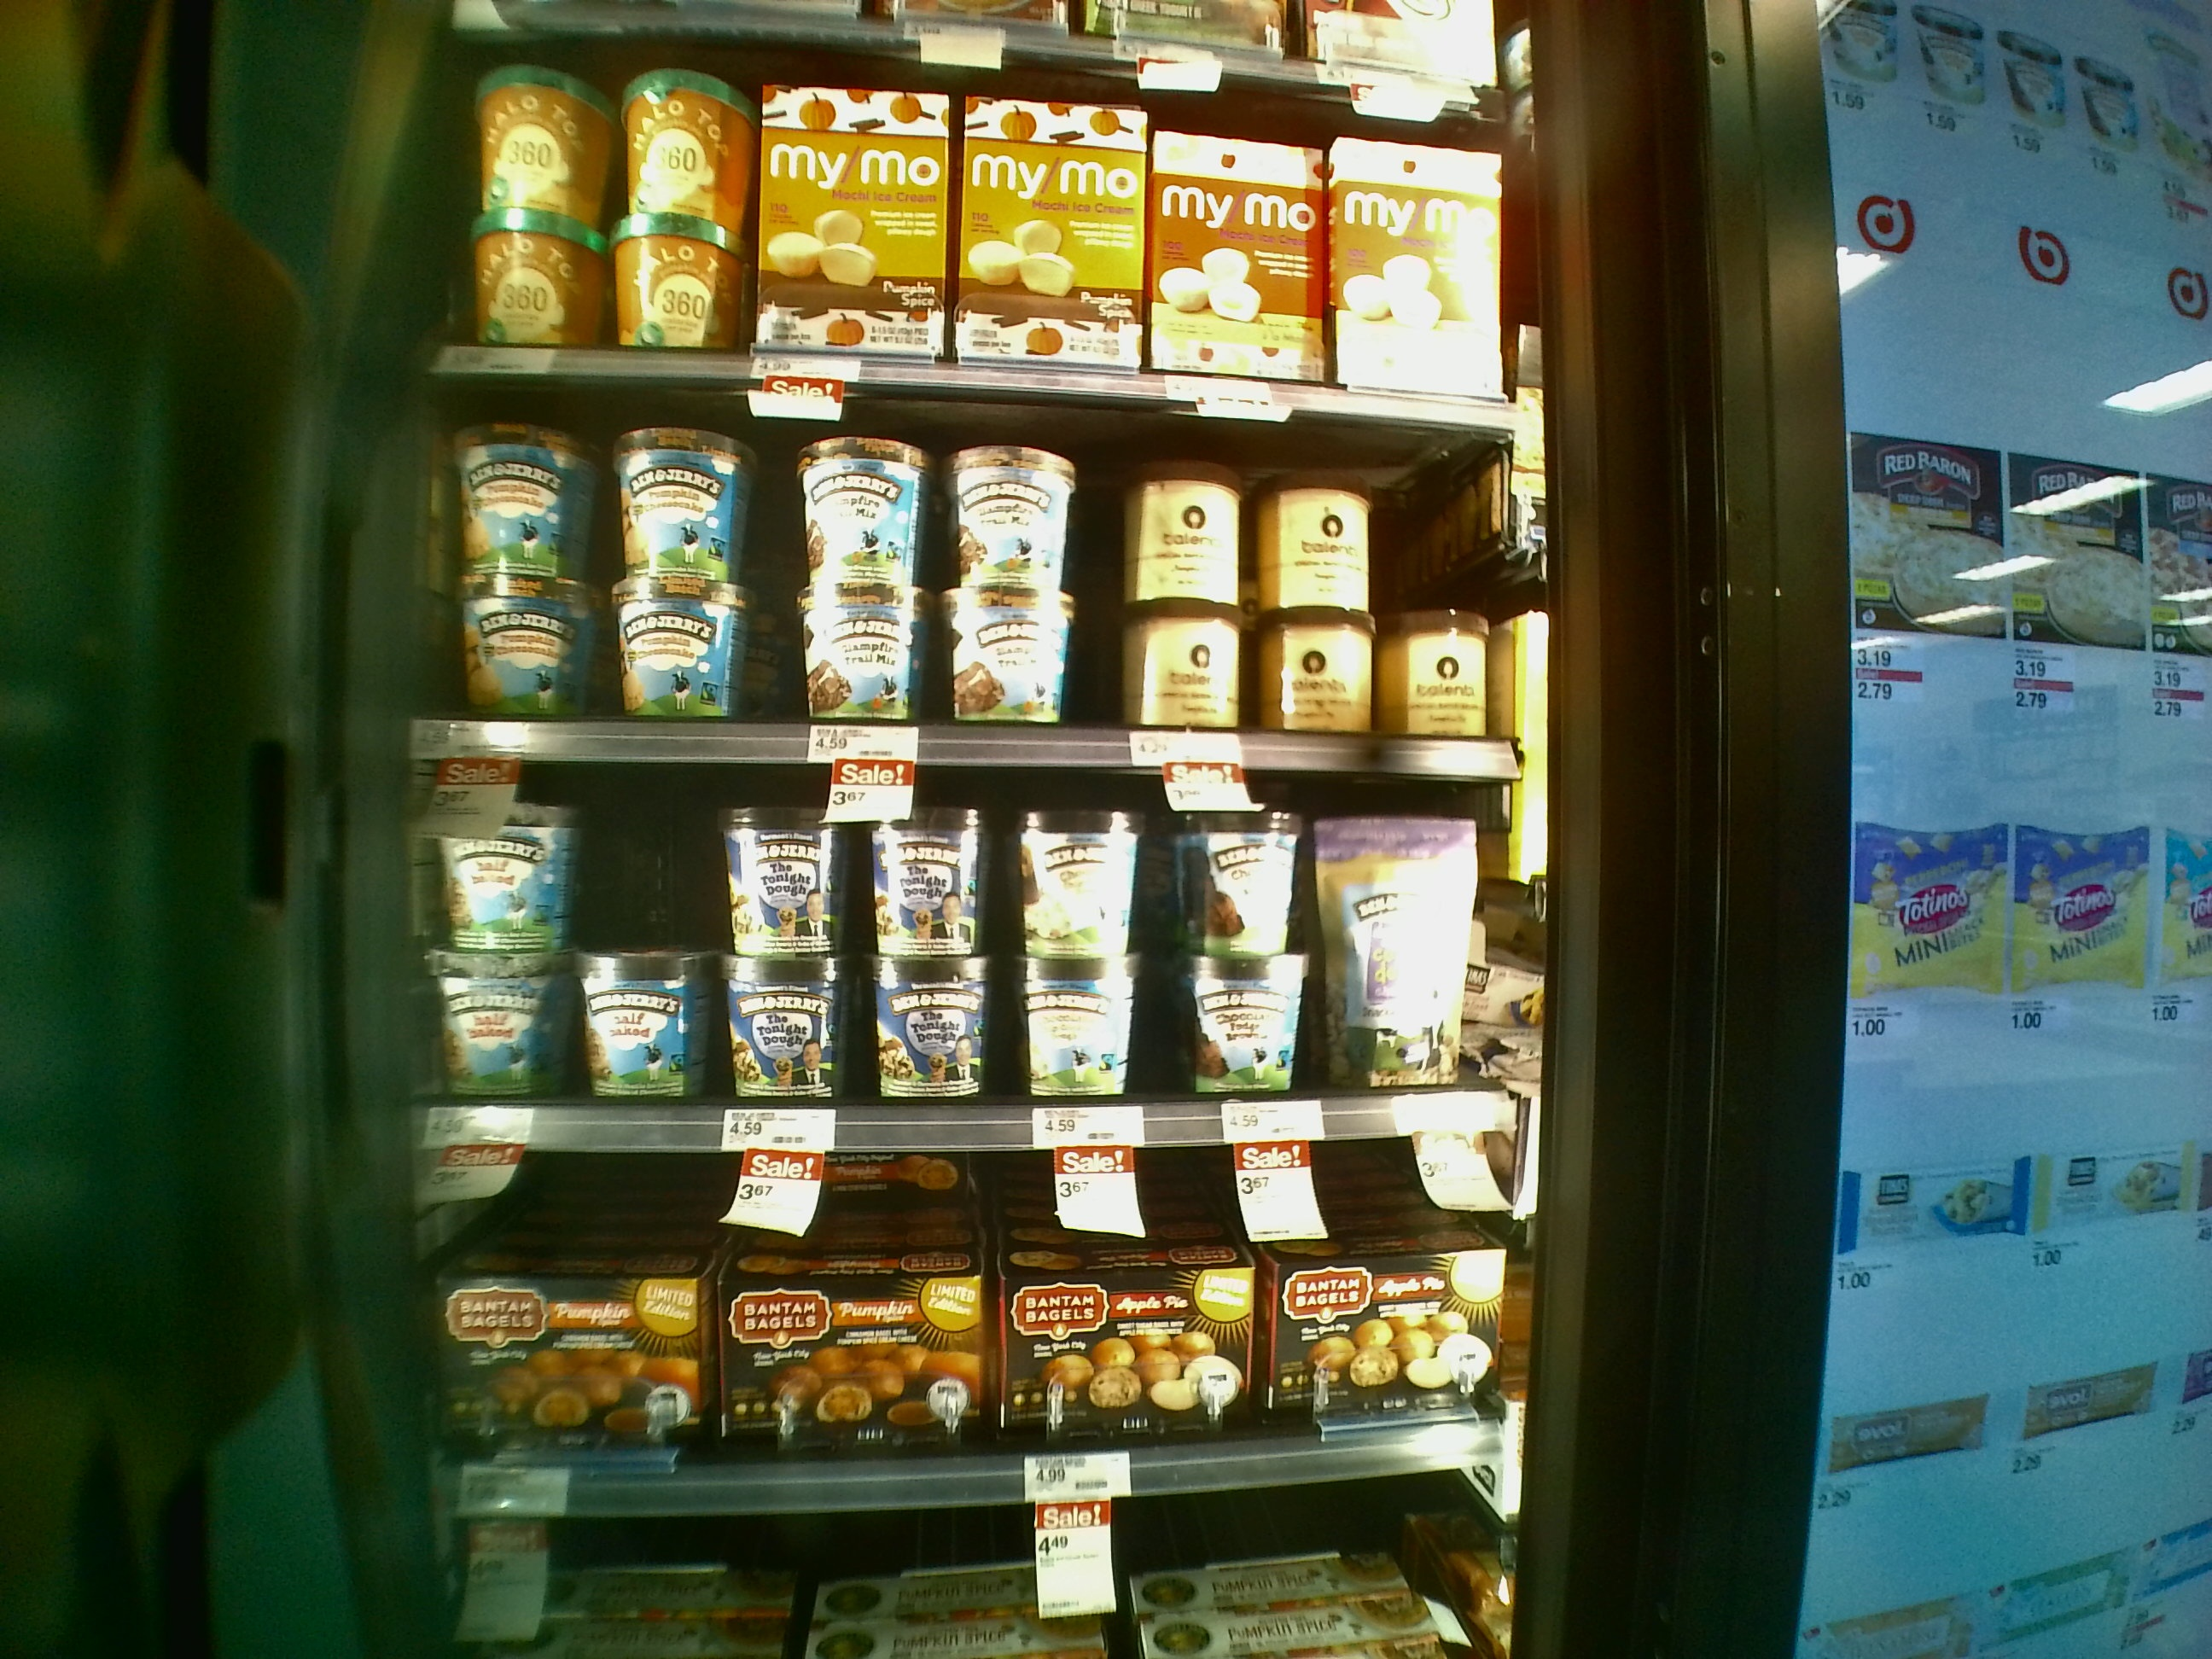shelf: (397, 359, 1554, 786), (383, 727, 1541, 1148), (371, 1117, 1524, 1500)
